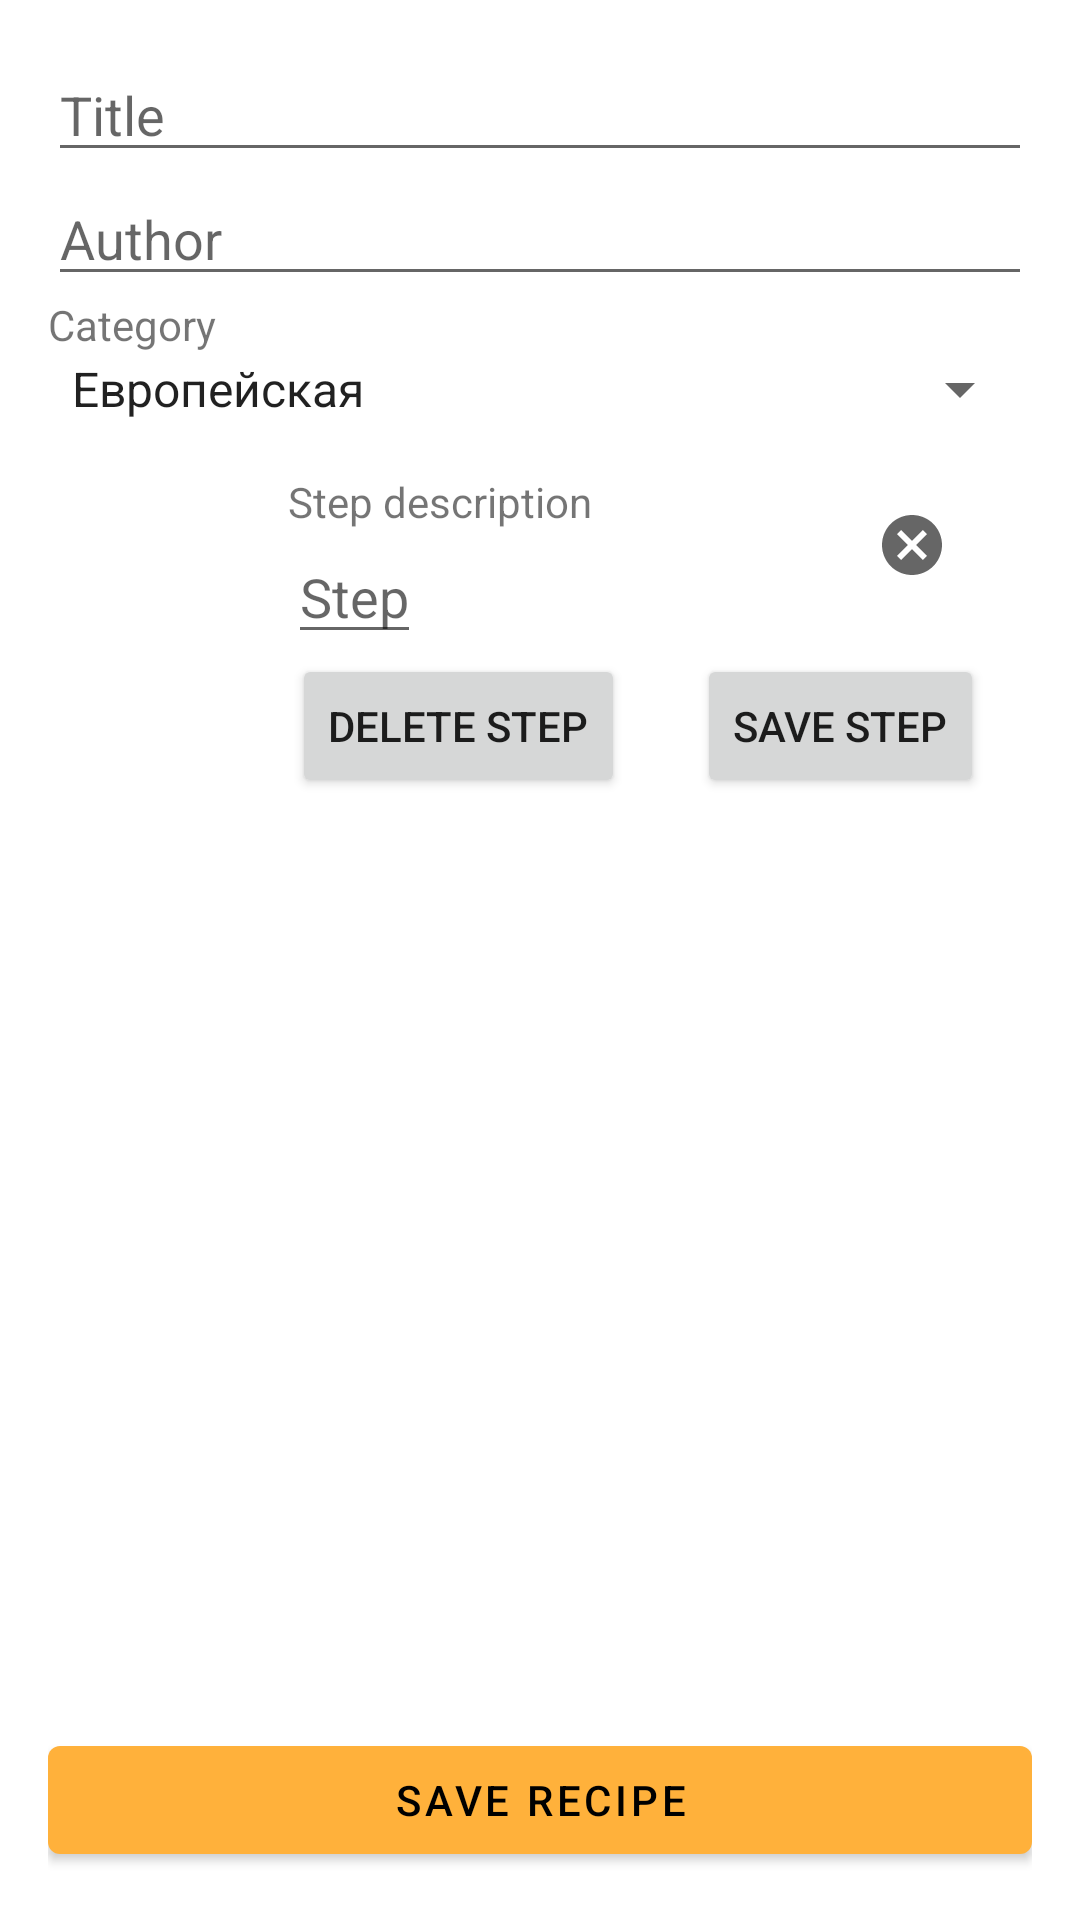

Icon bounding boxes for this 1080px×1920px phone screenshot, format (x1, y1, x2, y2):
cancel: (882, 515, 942, 575)
